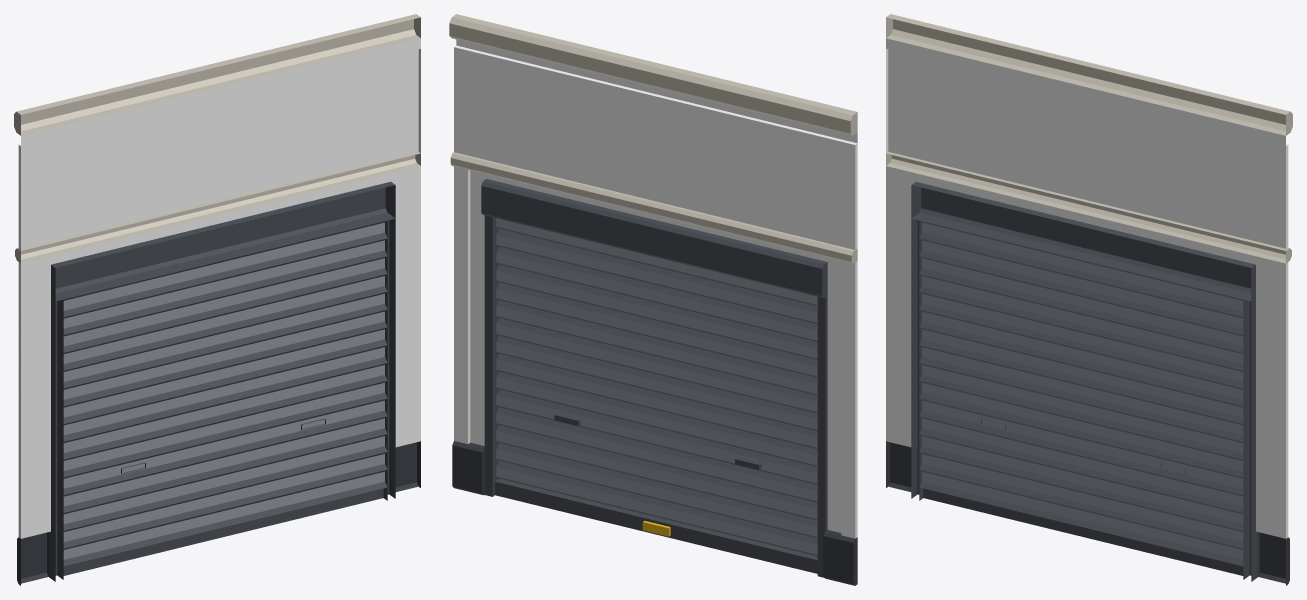
The model's file is shop_solid.glb.
The picture shows the model from 3 angles, left to right: view 1: azimuth 30°, elevation 25°; view 2: azimuth 150°, elevation 25°; view 3: azimuth 330°, elevation 25°; orthographic projection.
Parts seen in each view (by area): view 1: shop_solid__mesh; view 2: shop_solid__mesh; view 3: shop_solid__mesh.
Boxes of the visible parts, x1,y1,x2,y2 form: shop_solid__mesh: (14,14,420,585); shop_solid__mesh: (449,14,857,585); shop_solid__mesh: (886,14,1292,585).
Size of what is drawn, in the model's own units: 4 by 4.5 by 0.2.
1 material, 1 textured.
